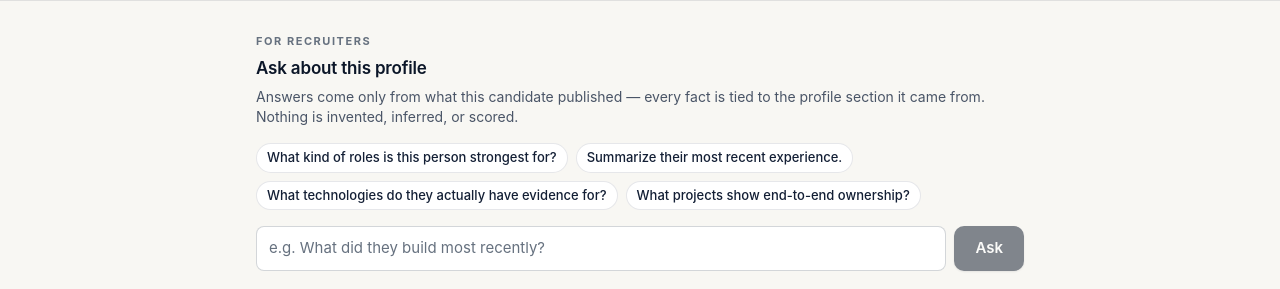
RecruiterAsk component › translates the owner plan-quota limit (RATE_LIMITED) into truthful copy without a retry hint
Type "Hello?" into the field named "your question about this profile" at (601, 248), box [256,226,946,270]
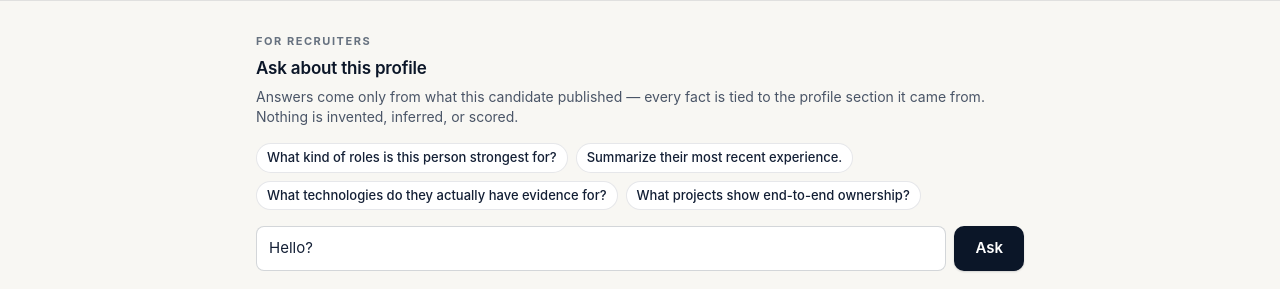
Click the button "Ask" at (989, 248), box [954,226,1024,270]
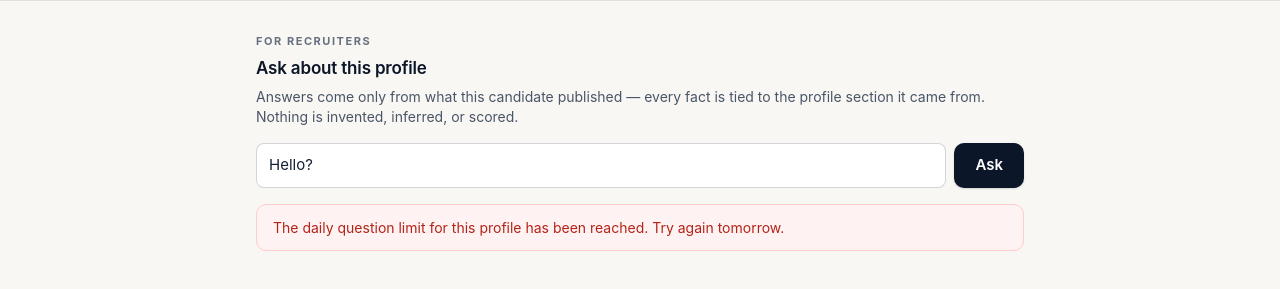
expect the text "daily question limit for this profile has been reached" is shown: met, box [273,218,784,236]
